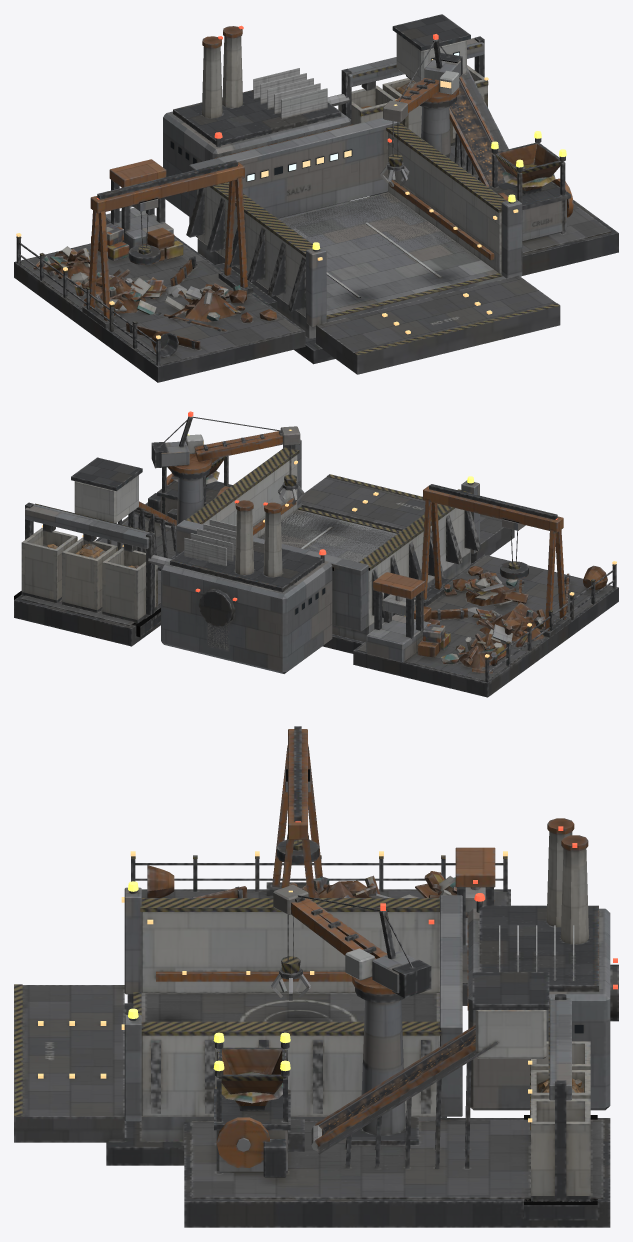
File: salvage_yard.glb
The picture shows the model from 3 angles, top to bottom: view 1: azimuth 30°, elevation 25°; view 2: azimuth 150°, elevation 25°; view 3: azimuth 270°, elevation 25°; orthographic projection. The views are drawn at different scales.
Parts seen in each view (by area): view 1: salvage_yard_hull, unload_arm, ore_conveyor_belt, salvage_yard_lights; view 2: salvage_yard_hull, unload_arm, salvage_yard_lights; view 3: salvage_yard_hull, unload_arm, ore_conveyor_belt, salvage_yard_lights.
Part boxes in pixels (bbox=[...]): salvage_yard_hull: bbox=[14, 14, 618, 382]; unload_arm: bbox=[380, 34, 462, 186]; ore_conveyor_belt: bbox=[449, 79, 505, 186]; salvage_yard_lights: bbox=[16, 25, 518, 338]; salvage_yard_hull: bbox=[14, 439, 618, 697]; unload_arm: bbox=[151, 411, 304, 504]; salvage_yard_lights: bbox=[42, 460, 616, 657]; salvage_yard_hull: bbox=[14, 726, 618, 1227]; unload_arm: bbox=[271, 884, 431, 1000]; ore_conveyor_belt: bbox=[318, 1028, 475, 1135]; salvage_yard_lights: bbox=[38, 821, 617, 1122].
Size of the model in its own units: 52.77 by 20.5 by 42.6.
Materials: 8 (2 with a texture image).
